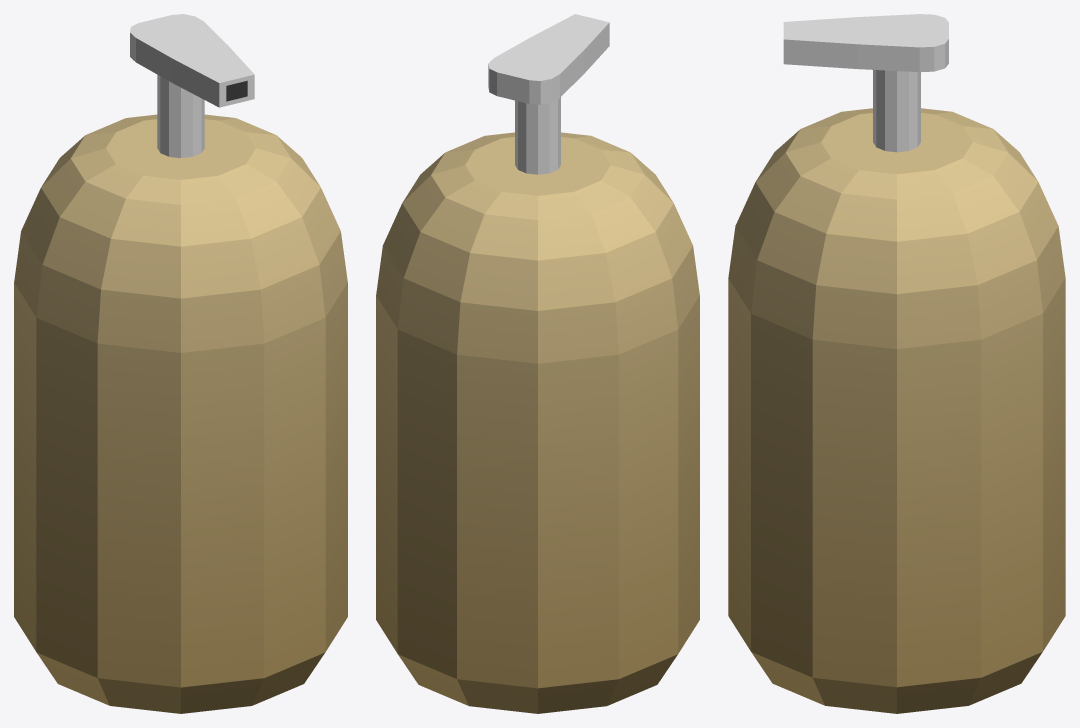
File: BathroomProps_02.fbx
The picture shows the model from 3 angles, left to right: view 1: azimuth 30°, elevation 25°; view 2: azimuth 150°, elevation 25°; view 3: azimuth 270°, elevation 25°; orthographic projection. The views are drawn at different scales.
Visible parts, largest first — view 1: BathroomProps_02; view 2: BathroomProps_02; view 3: BathroomProps_02.
Boxes of the visible parts, x1,y1,x2,y2 form: BathroomProps_02: (14, 14, 347, 713); BathroomProps_02: (376, 14, 699, 713); BathroomProps_02: (728, 14, 1065, 713).
Bounding box in the file's own units: 8.06 × 16.42 × 8.06.
